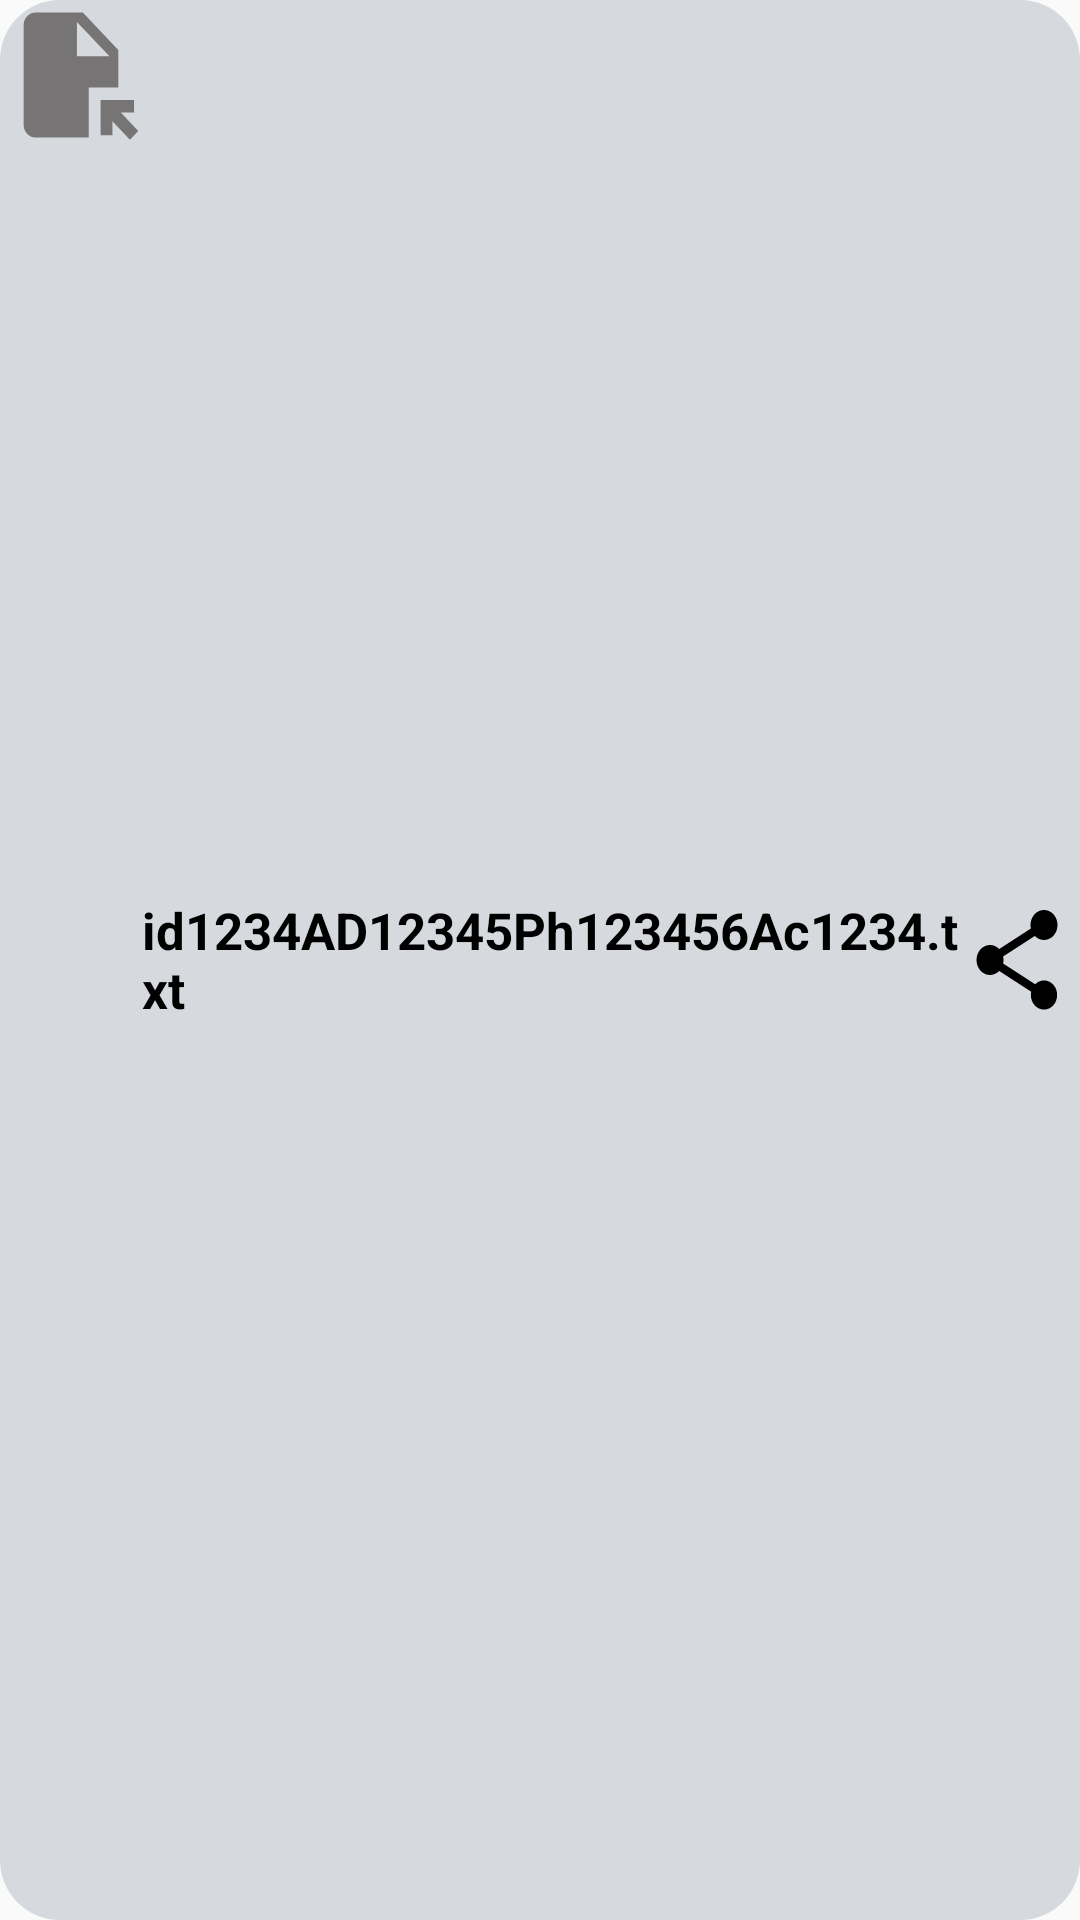

Icons on this 1080*1920 Android screen, each with the point to tap as (x,y):
file open: (69,70)
share: (1017,960)
